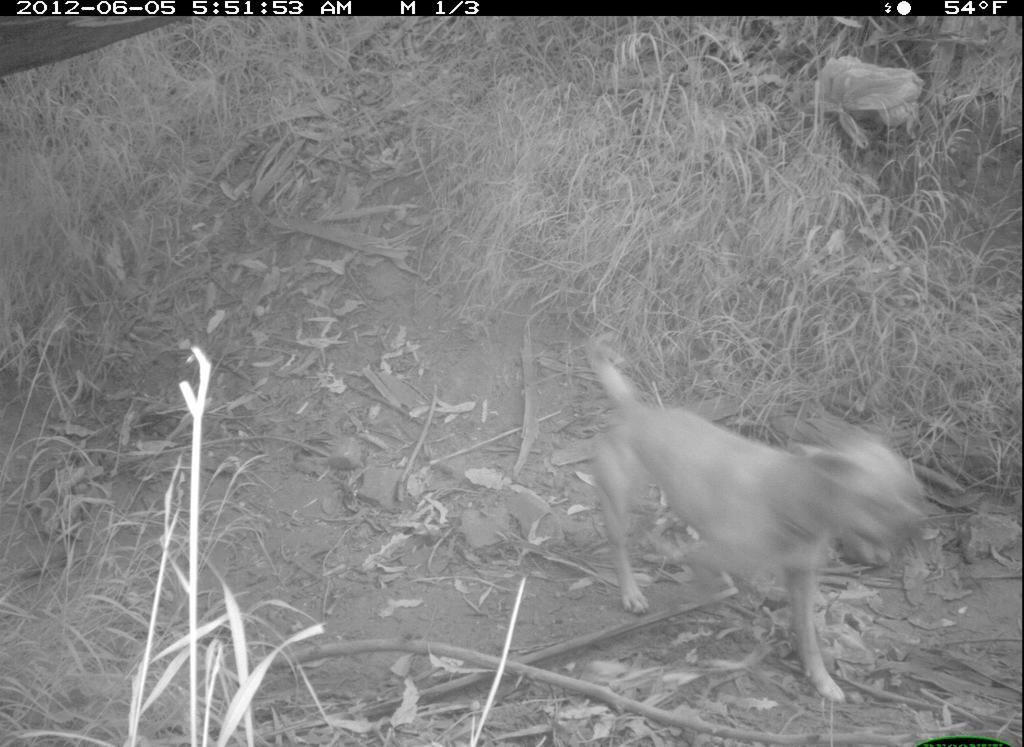dog: (575, 317, 926, 720)
